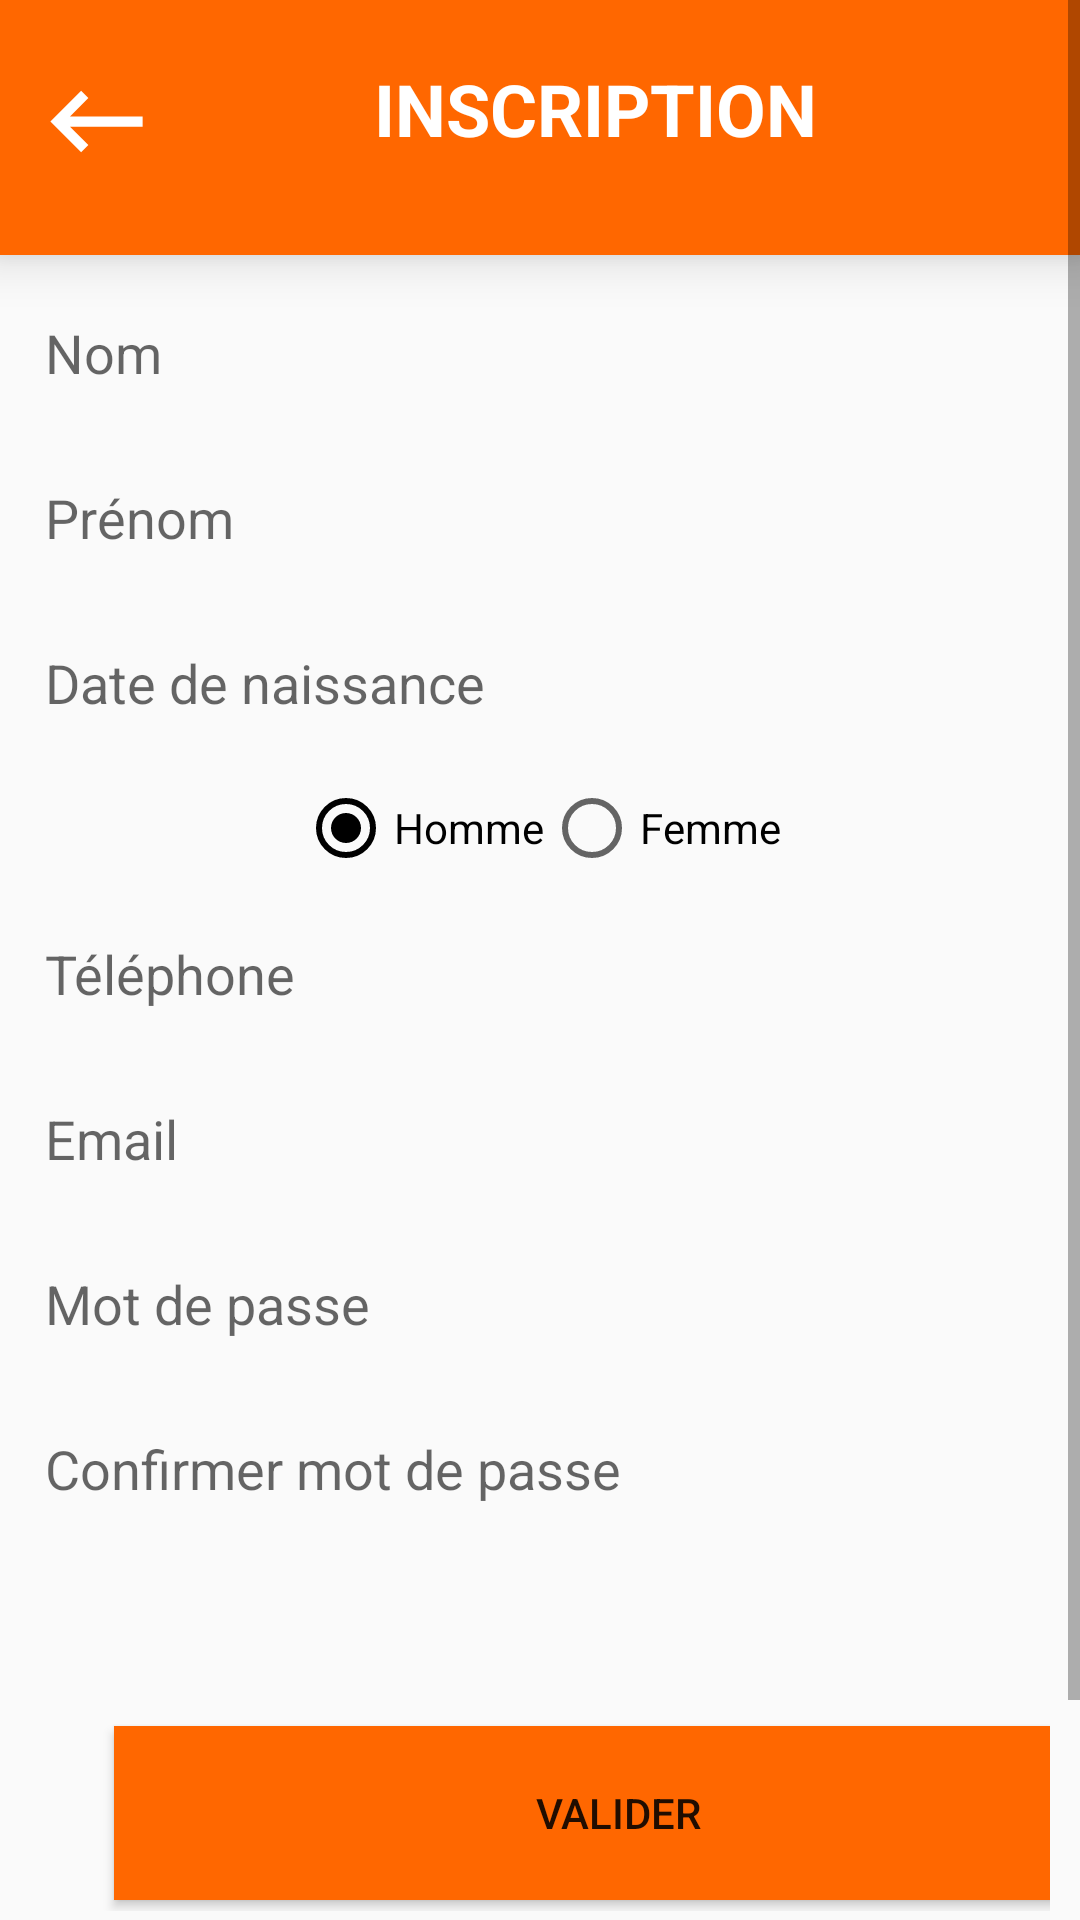

Point at icon controls on the screen. Image size 1080px×1920px, points as point (x, y).
keyboard backspace: point (96, 121)
